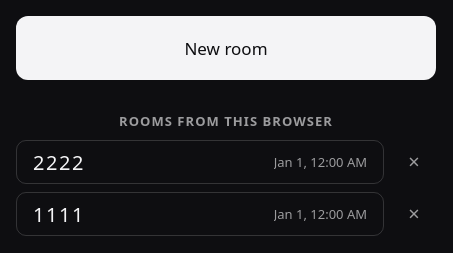
Test: the remembered list › forgets one room and leaves the others
Step 1. Click the button with test id "forget-1111" → coordinates (414, 214), box [392,192,436,236]
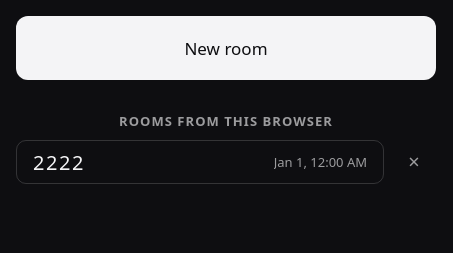
Expected: the link with test id "remembered-2222" is shown, [16,140,384,184]
Result: the link with test id "remembered-1111" is gone
